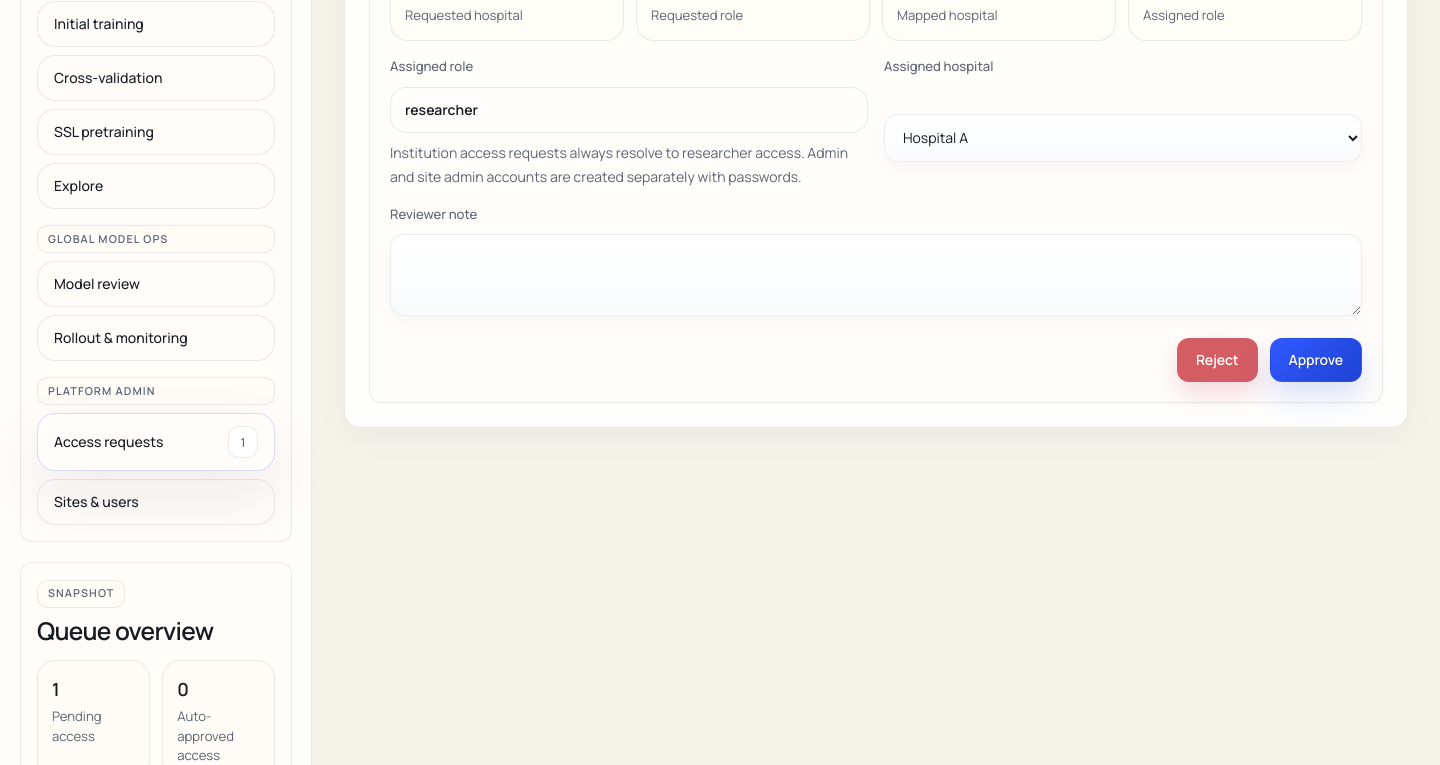
Test case: AdminWorkspace integration › keeps a rejected request removed even if the follow-up refresh fails
(page scrolled)
Click the button "Reject": (1217, 360) [1177, 338, 1258, 382]
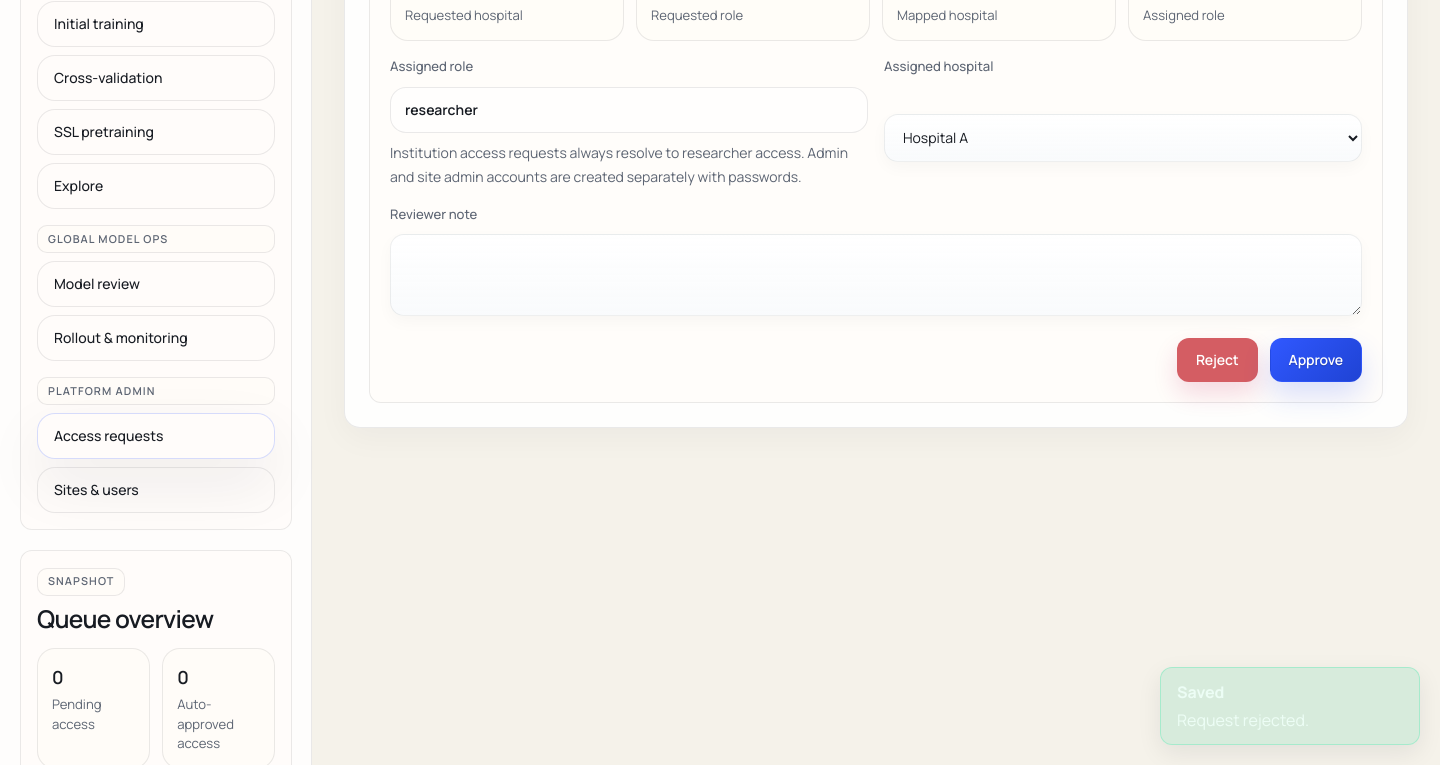
Now the text "Request rejected." is shown, box [1177, 709, 1309, 731]
